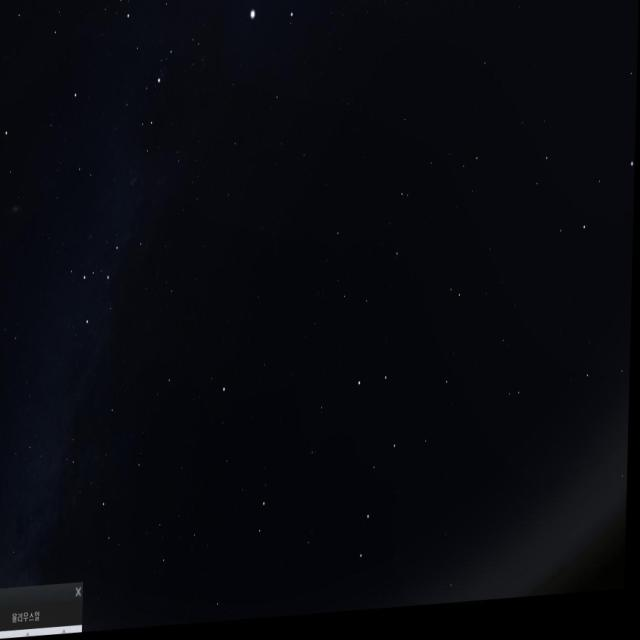ursa_major: (338, 354, 416, 618)
